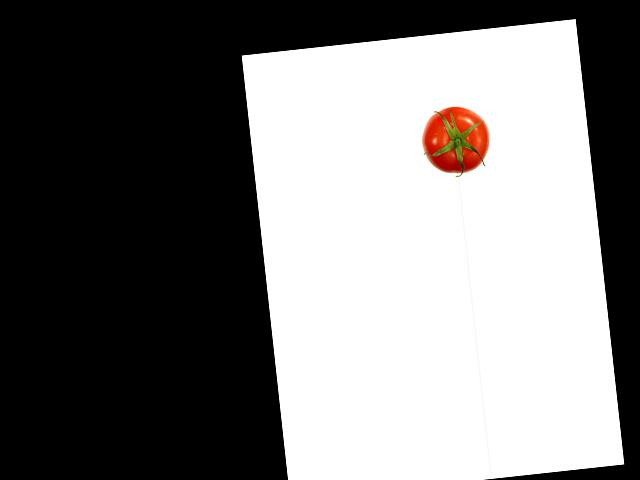tomato: (418, 102, 492, 176)
